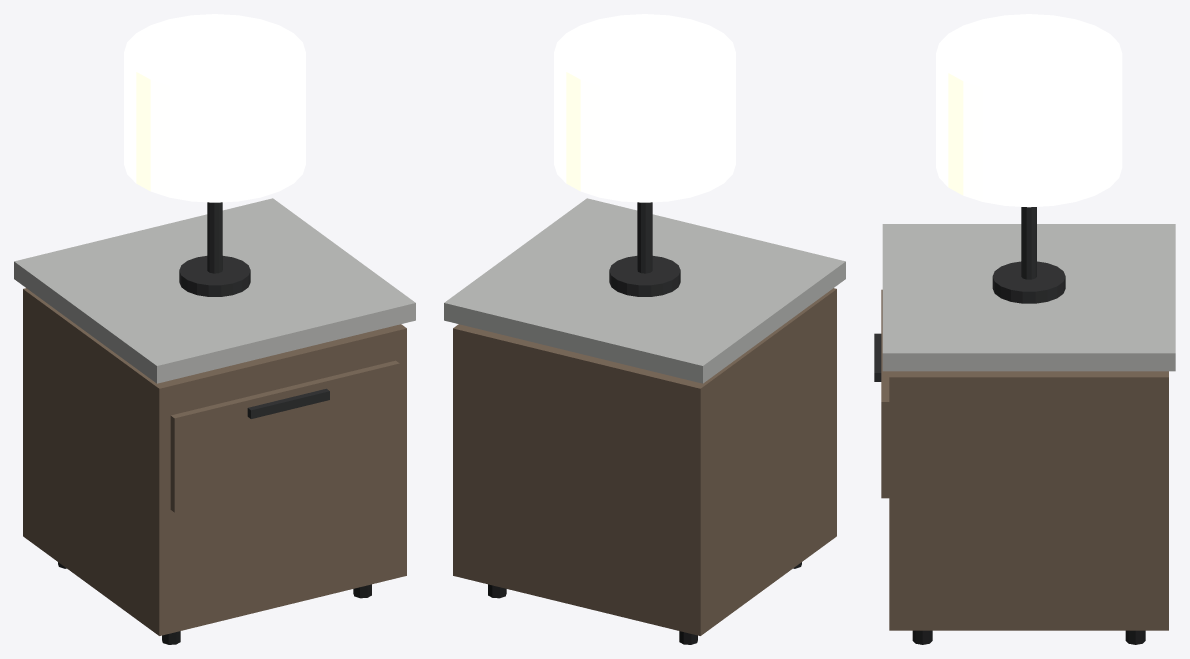
3 views of the same model, side by side, from view 1: azimuth 30°, elevation 25°; view 2: azimuth 150°, elevation 25°; view 3: azimuth 270°, elevation 25° (orthographic). The views are drawn at different scales.
Visible parts, largest first — view 1: bedside-table; view 2: bedside-table; view 3: bedside-table.
Boxes of the visible parts, x1,y1,x2,y2 form: bedside-table: [14, 14, 415, 644]; bedside-table: [444, 14, 845, 644]; bedside-table: [874, 14, 1175, 644].
Size of the model in its own units: 0.46 by 0.895 by 0.4525.
